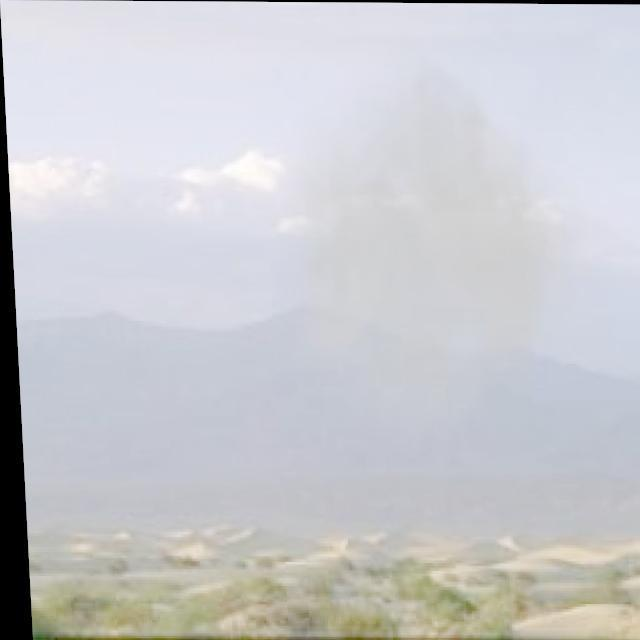Smoke: (265, 44, 585, 457)
